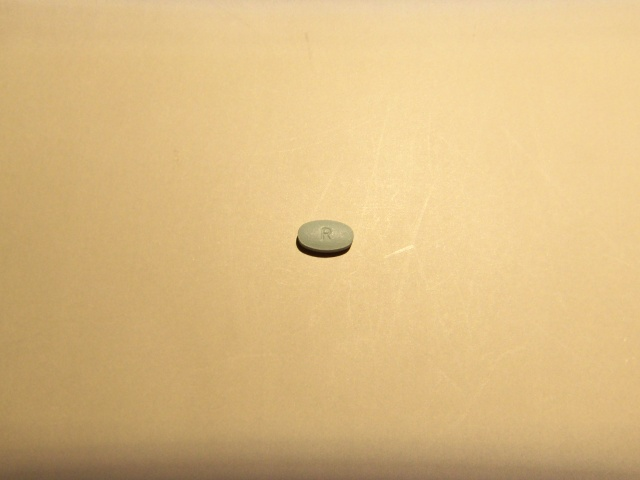R: (317, 224, 335, 244)
